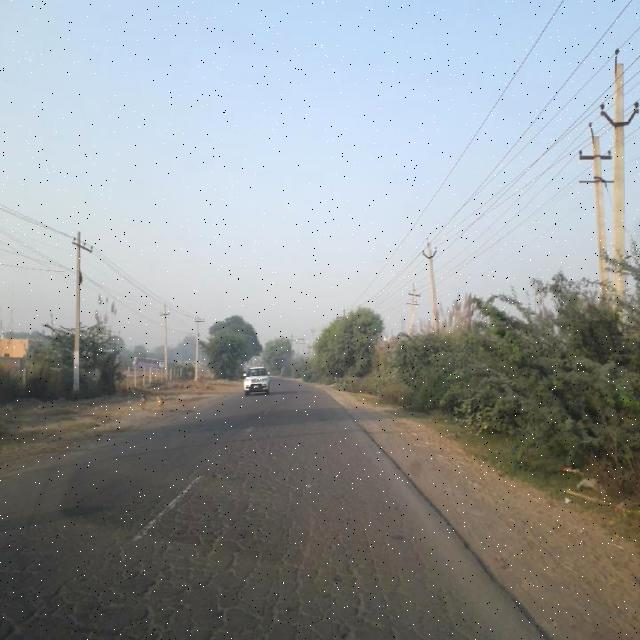D20: (1, 437, 412, 638)
